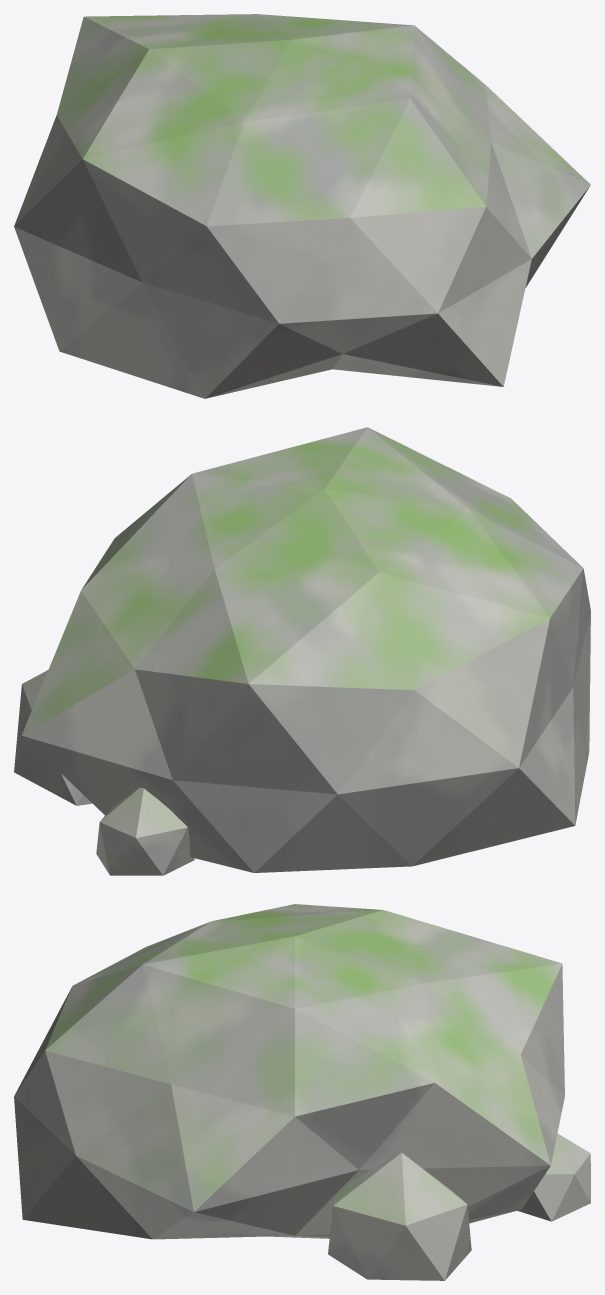
The model's file is rock_b.gltf.
3 renders of one model, top to bottom at view 1: azimuth 30°, elevation 25°; view 2: azimuth 150°, elevation 25°; view 3: azimuth 270°, elevation 25°, orthographic. The views are drawn at different scales.
Visible parts, largest first — view 1: rock_b; view 2: rock_b; view 3: rock_b.
Part boxes in pixels (<box>): rock_b: <box>14,14,590,398</box>; rock_b: <box>14,427,590,875</box>; rock_b: <box>14,904,590,1280</box>.
Size of the model in its own units: 1.76 by 0.9223 by 1.91.
1 material, 1 textured.
